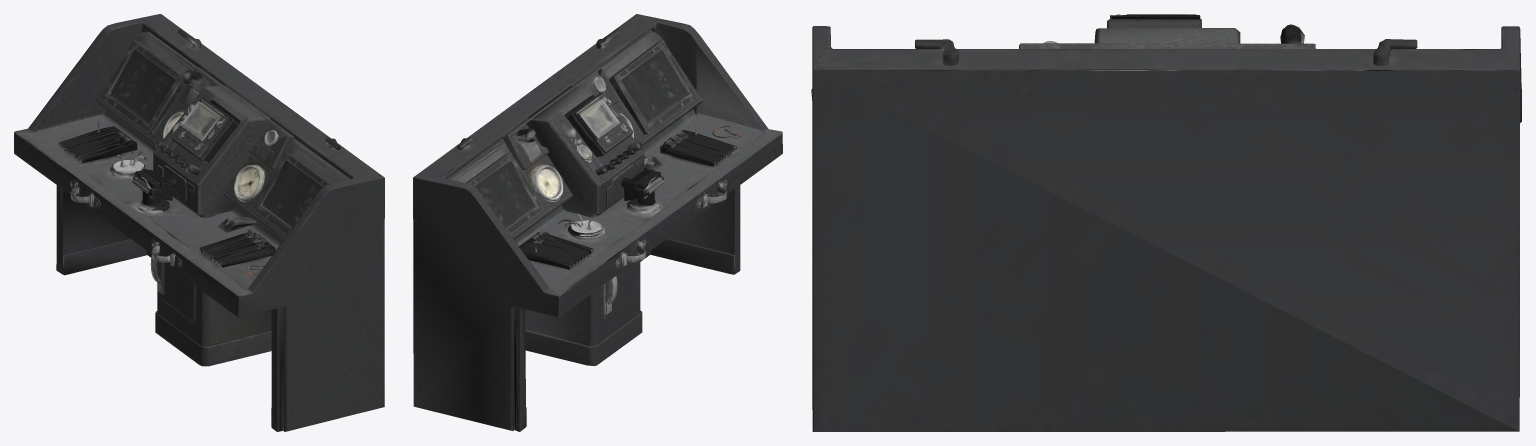
File: player-train-console.glb
3 renders of one model, left to right at view 1: azimuth 30°, elevation 25°; view 2: azimuth 150°, elevation 25°; view 3: azimuth 270°, elevation 25°, orthographic. The views are drawn at different scales.
Visible parts, largest first — view 1: player-train-console; view 2: player-train-console; view 3: player-train-console.
Boxes of the visible parts, box(x1,y1,x2,y2) form: player-train-console: box(14, 14, 384, 431); player-train-console: box(413, 14, 782, 431); player-train-console: box(811, 14, 1521, 431).
Size of the model in its own units: 0.8028 by 1.16 by 1.95.
Materials: 1 (1 with a texture image).
